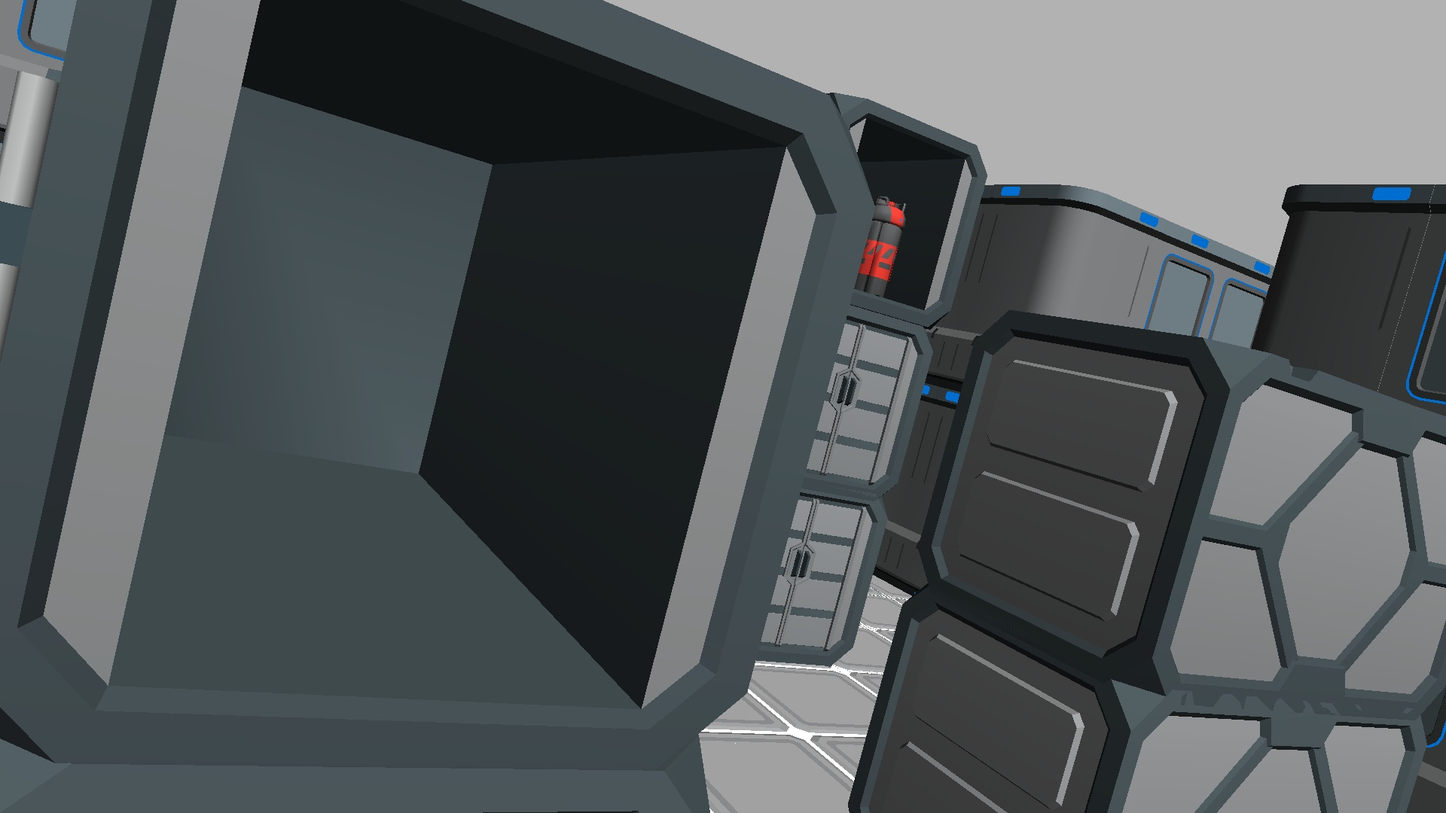red barrel: (854, 197, 906, 297)
